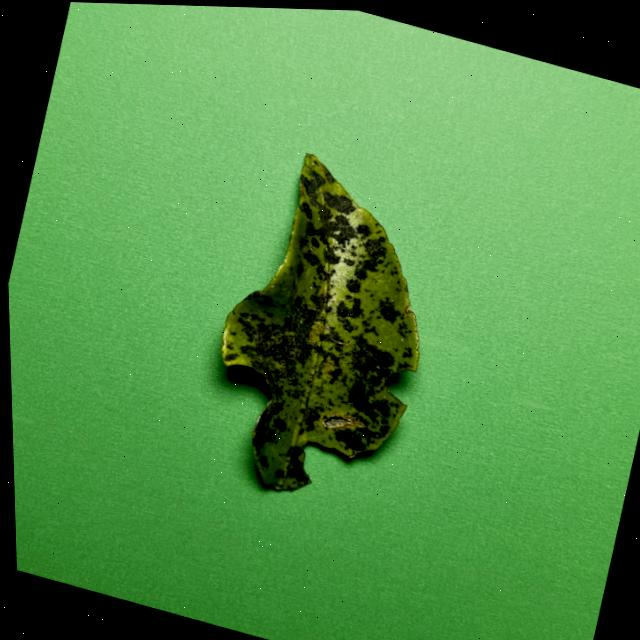sooty_mold: (221, 154, 418, 490)
